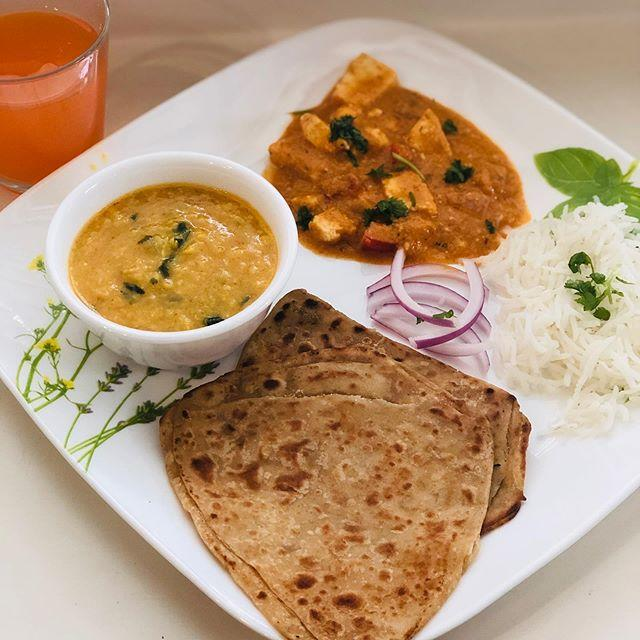White Rice: (486, 207, 640, 432)
